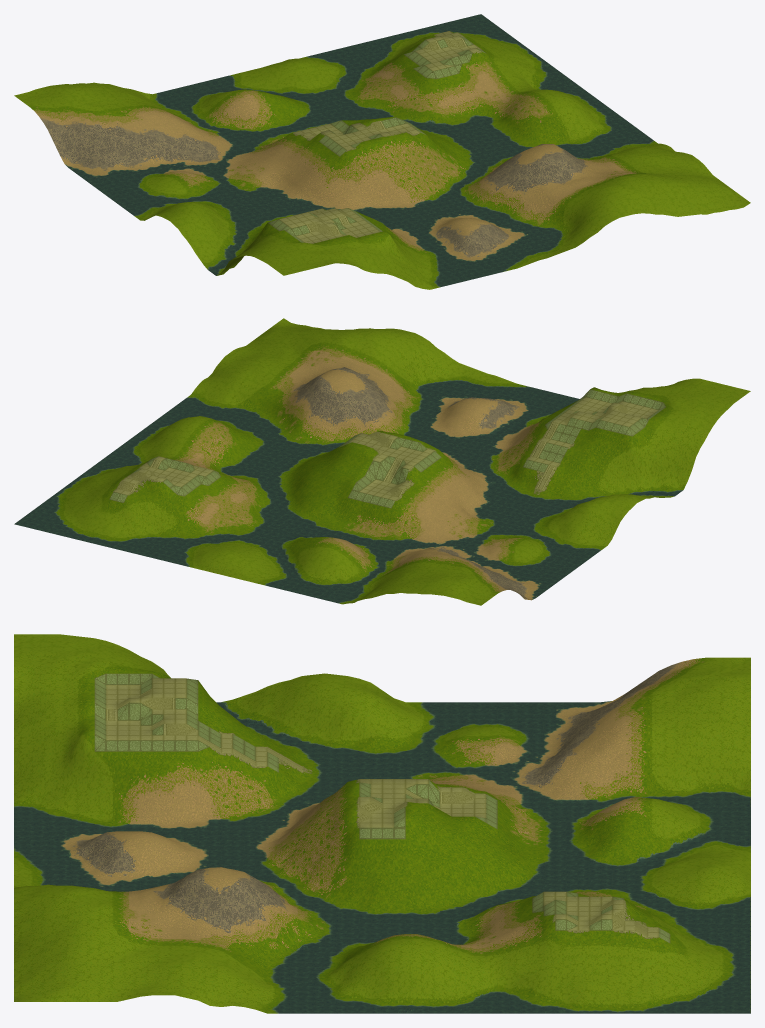
File: archi.glb
3 renders of one model, top to bottom at view 1: azimuth 30°, elevation 25°; view 2: azimuth 150°, elevation 25°; view 3: azimuth 270°, elevation 25°, orthographic. The views are drawn at different scales.
Visible parts, largest first — view 1: ARCHI_UNMANGLED-col; view 2: ARCHI_UNMANGLED-col; view 3: ARCHI_UNMANGLED-col.
Part boxes in pixels (x1,y1,x2,y2): ARCHI_UNMANGLED-col: (14,14,750,289); ARCHI_UNMANGLED-col: (14,318,750,605); ARCHI_UNMANGLED-col: (14,634,750,1013).
Size of the model in its own units: 32 by 3.31 by 32.
1 material, 1 textured.
